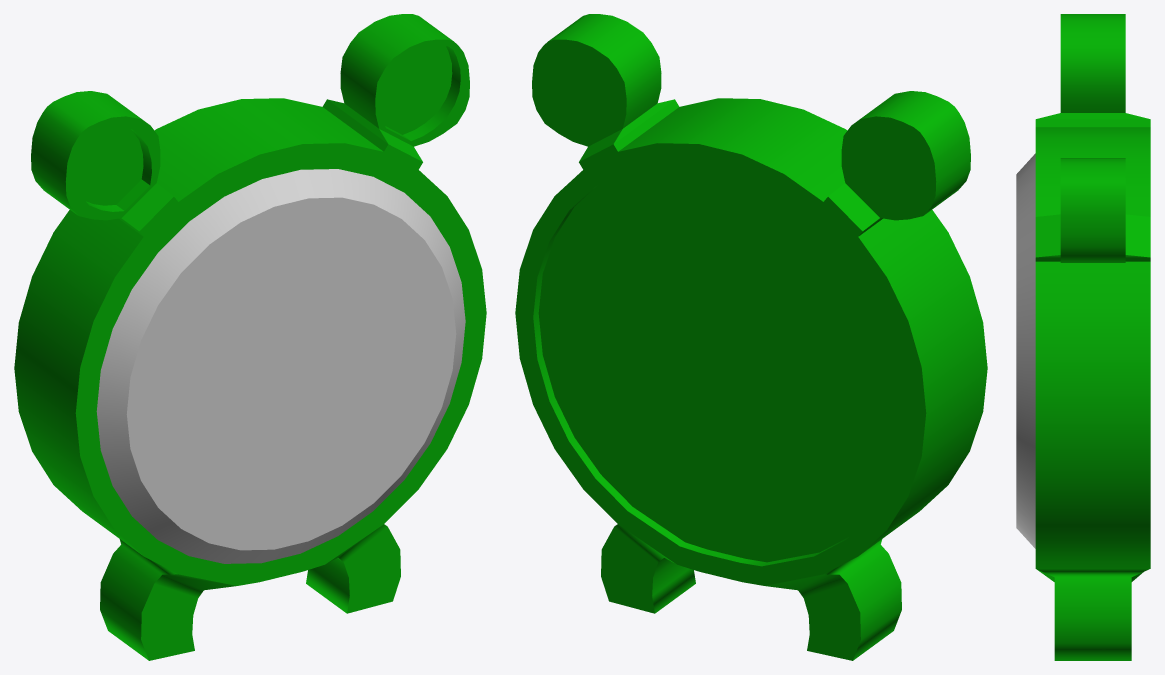
File: KidClock_Mesh.fbx
3 views of the same model, side by side, from view 1: azimuth 30°, elevation 25°; view 2: azimuth 150°, elevation 25°; view 3: azimuth 270°, elevation 25° (orthographic). The views are drawn at different scales.
Parts seen in each view (by area): view 1: Clock_Glass, Clock_Mesh; view 2: Clock_Mesh; view 3: Clock_Mesh, Clock_Glass.
Part boxes in pixels (bbox=[...]): Clock_Glass: bbox=[96, 169, 465, 563]; Clock_Mesh: bbox=[14, 14, 486, 660]; Clock_Mesh: bbox=[515, 14, 987, 660]; Clock_Mesh: bbox=[1035, 14, 1150, 660]; Clock_Glass: bbox=[1016, 153, 1035, 548].
Size of the model in its own units: 28.3 by 36.23 by 8.56.
